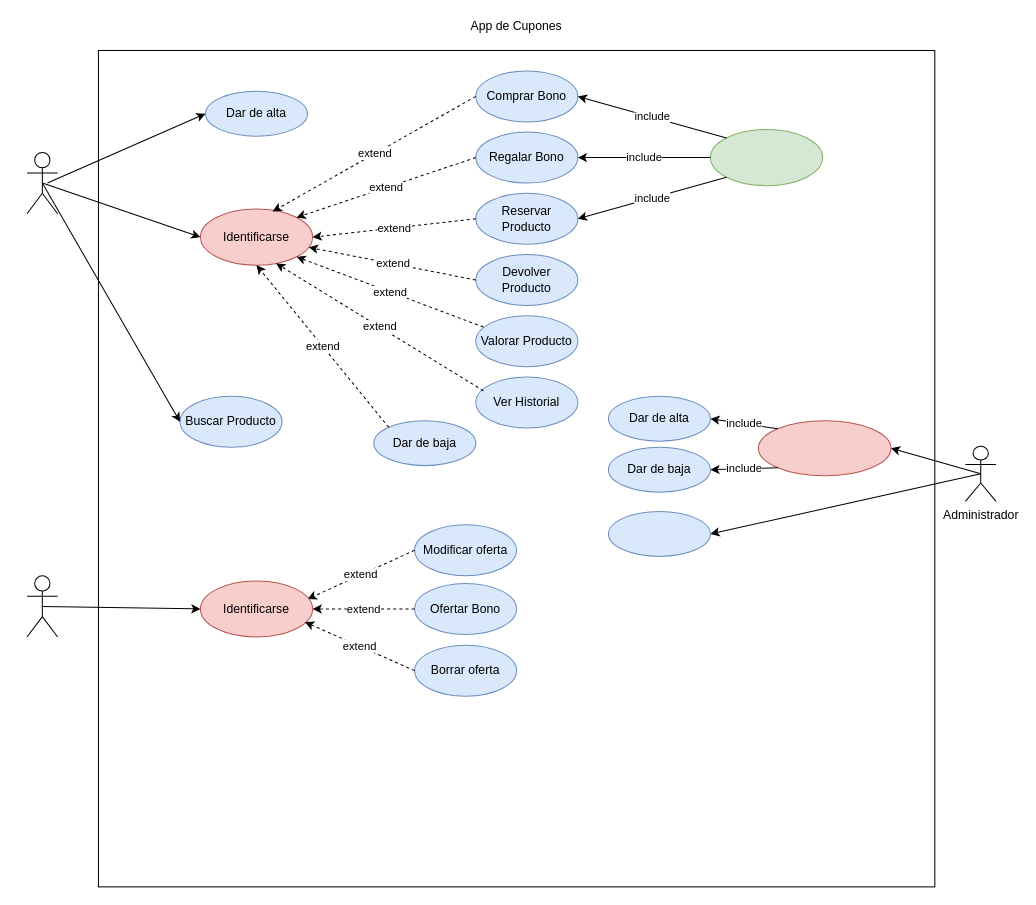
Image size: 1036x905. Some labels were removed from this diagram. Here are the shapes that lost their labels. From the top down, the centre of each, then its label:
At pixel 766 157: "Elegir método de pago".
At pixel 42 182: "Usuario".
At pixel 824 448: "Tramitar Empresa".
At pixel 658 533: "Asistir online".
At pixel 42 606: "Empresa".
